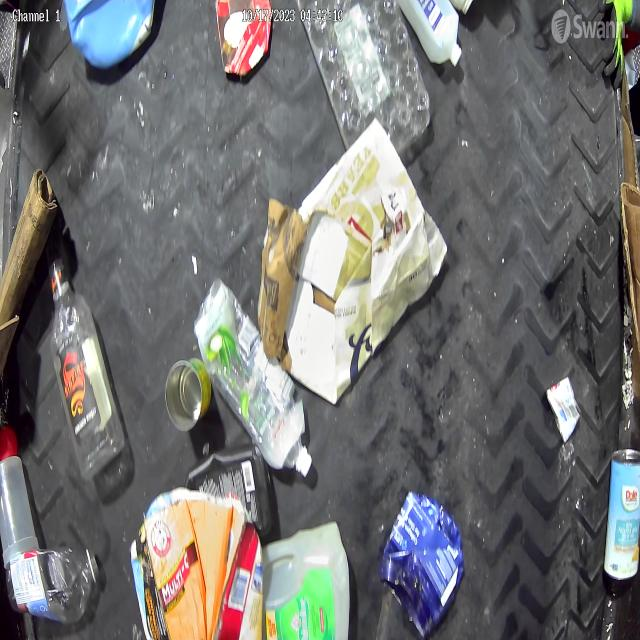can: (166, 358, 212, 434), (547, 372, 582, 442)
milk_jug: (262, 520, 351, 640)
non_white_jug: (603, 448, 640, 580)
plastic_bottle: (49, 258, 127, 488), (7, 548, 102, 622)
